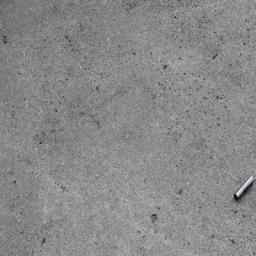FOD: (232, 175, 256, 204)
